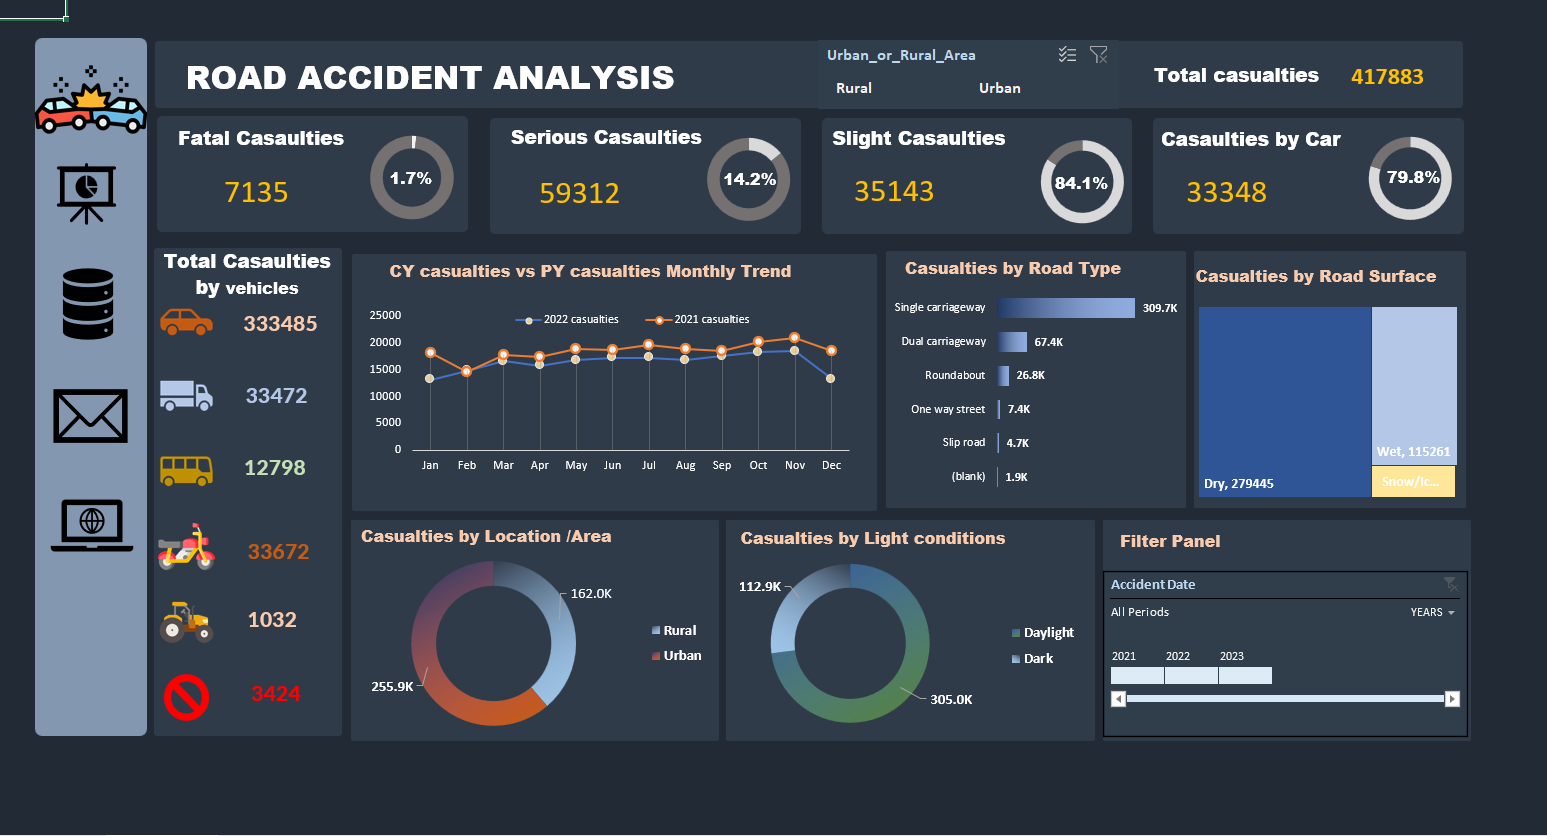

Layout of this report page (visuals, bound fields, positions):
{"tool":"powerbi","page":{"name":"Page 1","canvas":[1280,720],"ordinal":0},"visuals":[{"type":"card","title":"Total CY Casualties","fields":{"Values":["Data.CY casualities"]},"box":[15.7,92.9,234,94.1],"z":0,"group":"g1"},{"type":"group","id":"g1","title":"Group 1","box":[15.7,92.9,234,112.2],"z":0},{"type":"card","title":"Total CY Accidents","fields":{"Values":["Data.CY Accidents"]},"box":[259.4,92.9,234,94.1],"z":0,"group":"g2"},{"type":"card","title":"CY Fatal Accidents","fields":{"Values":["Data.CY casualities"]},"box":[523.7,93.8,234,94.1],"z":0,"group":"g3"},{"type":"card","title":"CY Serious Accidents","fields":{"Values":["Data.CY casualities"]},"box":[768.9,94.3,234,94.1],"z":0,"group":"g4"},{"type":"card","title":"CY Slight Accidents","fields":{"Values":["Data.CY casualities"]},"box":[1030.5,94.3,234,94.1],"z":0,"group":"g5"},{"type":"group","id":"g2","title":"Group 1","box":[259.4,92.9,234,112.2],"z":1000},{"type":"card","fields":{"Values":["Data.YOY growth"]},"box":[85.7,168.9,92.9,36.2],"z":1000,"group":"g1"},{"type":"card","fields":{"Values":["Data.YOY Accidents"]},"box":[329.4,168.9,92.9,36.2],"z":1000,"group":"g2"},{"type":"card","fields":{"Values":["Data.YOY growth"]},"box":[593.7,169.8,92.9,36.2],"z":1000,"group":"g3"},{"type":"card","fields":{"Values":["Data.YOY growth"]},"box":[838.9,170.3,92.9,36.2],"z":1000,"group":"g4"},{"type":"card","fields":{"Values":["Data.YOY growth"]},"box":[1100.5,170.3,92.9,36.2],"z":1000,"group":"g5"},{"type":"group","id":"g3","title":"Group 1","box":[523.7,93.8,233.7,112.5],"z":2000},{"type":"group","id":"g4","title":"Group 1","box":[768.9,94.3,233.2,113.9],"z":3000},{"type":"group","id":"g5","title":"Group 1","box":[1030.5,94.3,234,112.2],"z":4000},{"type":"textbox","box":[16,17.8,646.1,57],"z":5000},{"type":"multiRowCard","fields":{"Values":["Data.Vehicle_Type (groups)","Data.CY casualities"]},"box":[113.9,268.7,128.1,439.6],"z":6000},{"type":"image","box":[30.3,268.7,69.4,62.3],"z":7000},{"type":"image","box":[30.3,347.1,69.4,62.3],"z":8000},{"type":"image","box":[5.3,421.8,113.9,67.6],"z":9000},{"type":"image","box":[0,485.9,128.1,78.3],"z":10000},{"type":"image","box":[5.3,558.9,113.9,64.1],"z":11000},{"type":"image","box":[5.3,633.6,128.1,74.8],"z":12000},{"type":"textbox","box":[15.9,228,233.7,40.4],"z":13000},{"type":"areaChart","title":"CY casualties vs PY Casualties Monthly Trend","fields":{"Category":["calendar.Month"],"Series":["calendar.Date.Variation.Date Hierarchy.Year"],"Y":["Sum(Data.Number_of_Casualties)"]},"box":[259.7,228,451.6,228],"z":14000},{"type":"donutChart","title":"Casualities by Urban/Rural_Area","fields":{"Category":["Data.Urban_or_Rural_Area"],"Y":["Data.CY casualities"]},"box":[730,228,245.3,226.5],"z":15000},{"type":"donutChart","title":" Casualities by Light condition","fields":{"Category":["Data.Light_Conditions (groups)"],"Y":["Data.CY casualities"]},"box":[730,466,245.3,226.5],"z":16000},{"type":"barChart","title":"Casualities by Road_Type","fields":{"Category":["Data.Road_Type"],"Y":["Data.CY casualities"]},"box":[259.7,466,448.7,242.4],"z":17000},{"type":"map","title":"Casualties By Locations","fields":{"Category":["Data.Local_Authority_(District)"],"X":["Data.Longitude"],"Y":["Data.Latitude"]},"box":[991.2,227.5,272.5,481.2],"z":18000},{"type":"slicer","fields":{"Values":["Data.Weather_Conditions (groups)"]},"box":[1030,12.9,221.4,57.1],"z":19000},{"type":"slicer","fields":{"Values":["Data.Road_Surface_Conditions (groups)"]},"box":[808.6,14.3,221.4,57.1],"z":20000}]}

Visuals, with their boxes on the page's 1280x720 design canvas (x1, y1, x2, y2). These are canvas units, not pixel positions in the 1547x836 screenshot, which may show the page scaled, cropped or inside an application window:
"Total CY Casualties" card: Rect(16, 93, 250, 187)
"Group 1" group: Rect(16, 93, 250, 205)
"Total CY Accidents" card: Rect(259, 93, 493, 187)
"CY Fatal Accidents" card: Rect(524, 94, 758, 188)
"CY Serious Accidents" card: Rect(769, 94, 1003, 188)
"CY Slight Accidents" card: Rect(1030, 94, 1264, 188)
"Group 1" group: Rect(259, 93, 493, 205)
card - Data.YOY growth: Rect(86, 169, 179, 205)
card - Data.YOY Accidents: Rect(329, 169, 422, 205)
card - Data.YOY growth: Rect(594, 170, 687, 206)
card - Data.YOY growth: Rect(839, 170, 932, 206)
card - Data.YOY growth: Rect(1100, 170, 1193, 206)
"Group 1" group: Rect(524, 94, 757, 206)
"Group 1" group: Rect(769, 94, 1002, 208)
"Group 1" group: Rect(1030, 94, 1264, 206)
textbox: Rect(16, 18, 662, 75)
multiRowCard - Data.Vehicle_Type (groups) x Data.CY casualities: Rect(114, 269, 242, 708)
image: Rect(30, 269, 100, 331)
image: Rect(30, 347, 100, 409)
image: Rect(5, 422, 119, 489)
image: Rect(0, 486, 128, 564)
image: Rect(5, 559, 119, 623)
image: Rect(5, 634, 133, 708)
textbox: Rect(16, 228, 250, 268)
"CY casualties vs PY Casualties Monthly Trend" areaChart: Rect(260, 228, 711, 456)
"Casualities by Urban/Rural_Area" donutChart: Rect(730, 228, 975, 454)
" Casualities by Light condition" donutChart: Rect(730, 466, 975, 692)
"Casualities by Road_Type" barChart: Rect(260, 466, 708, 708)
"Casualties By Locations" map: Rect(991, 228, 1264, 709)
slicer - Data.Weather_Conditions (groups): Rect(1030, 13, 1251, 70)
slicer - Data.Road_Surface_Conditions (groups): Rect(809, 14, 1030, 71)
